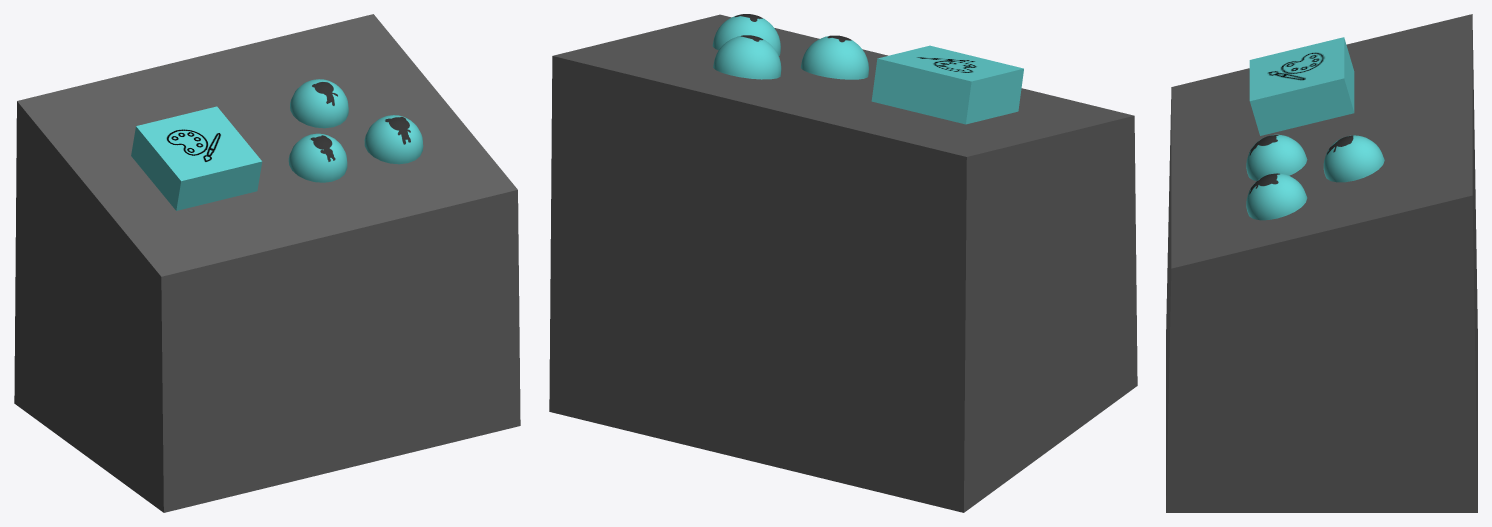
File: pcu_controller_001.fbx
3 renders of one model, left to right at view 1: azimuth 30°, elevation 25°; view 2: azimuth 150°, elevation 25°; view 3: azimuth 270°, elevation 25°, orthographic. The views are drawn at different scales.
Parts seen in each view (by area): view 1: box, colorbox, dance2, dance3, dance1; view 2: box, colorbox, dance1, dance2, dance3; view 3: box, colorbox, dance1, dance3, dance2.
Boxes of the visible parts, x1,y1,x2,y2 form: box: [14, 14, 520, 512]; colorbox: [131, 106, 262, 210]; dance2: [288, 133, 347, 182]; dance3: [364, 115, 423, 164]; dance1: [290, 79, 348, 128]; box: [549, 14, 1137, 512]; colorbox: [871, 45, 1023, 124]; dance1: [713, 35, 781, 79]; dance2: [800, 35, 868, 79]; dance3: [712, 14, 780, 55]; box: [1166, 14, 1477, 512]; colorbox: [1249, 37, 1354, 135]; dance1: [1323, 135, 1384, 182]; dance3: [1246, 173, 1307, 220]; dance2: [1246, 134, 1307, 180].
Size of the model in its own units: 138 by 115 by 100.
5 materials, 4 textured.
